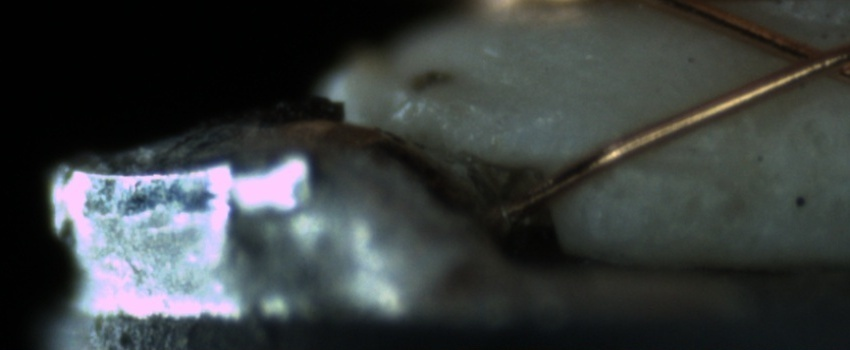CL: (763, 28, 850, 90)
DL: (604, 137, 729, 191)
